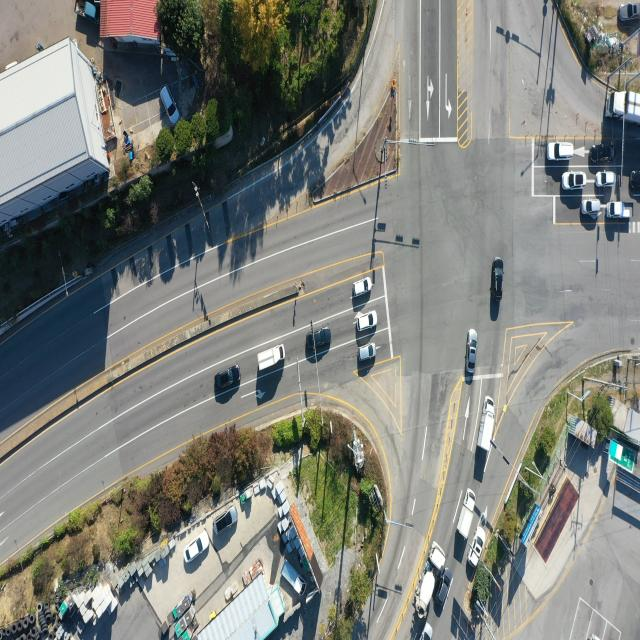car: (186, 533, 210, 565), (468, 527, 486, 567), (159, 83, 177, 123), (304, 328, 330, 354), (214, 507, 237, 536), (214, 365, 240, 389), (549, 141, 576, 162), (492, 256, 504, 302), (356, 310, 378, 332), (438, 570, 452, 604), (466, 329, 476, 376), (589, 144, 613, 163), (352, 276, 372, 298), (562, 172, 586, 190), (356, 343, 376, 363), (618, 3, 640, 21), (582, 199, 602, 216), (596, 172, 616, 188), (418, 622, 433, 640), (630, 174, 640, 194)
medium_truck: (416, 542, 446, 616), (609, 91, 640, 127)
small_truck: (478, 397, 498, 453), (458, 487, 479, 539), (280, 564, 308, 598), (257, 344, 286, 374), (72, 0, 98, 27), (609, 201, 634, 221)
